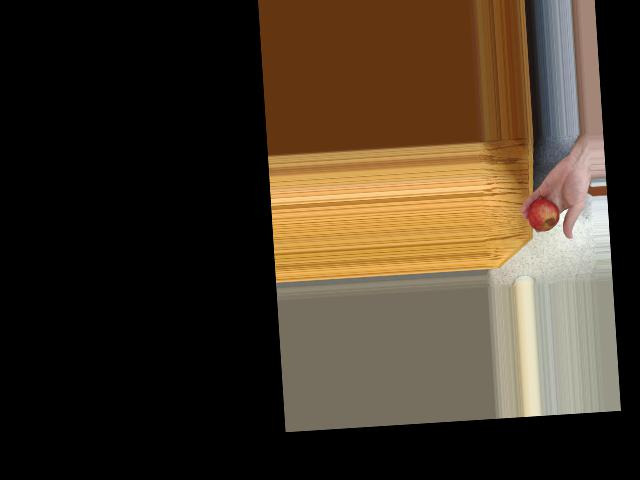apple: (527, 193, 563, 233)
